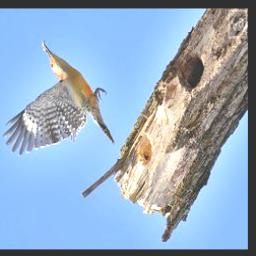Woodpecker: (1, 40, 115, 158)
